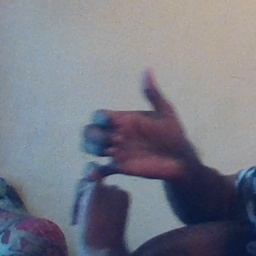S: (68, 63, 189, 235)
